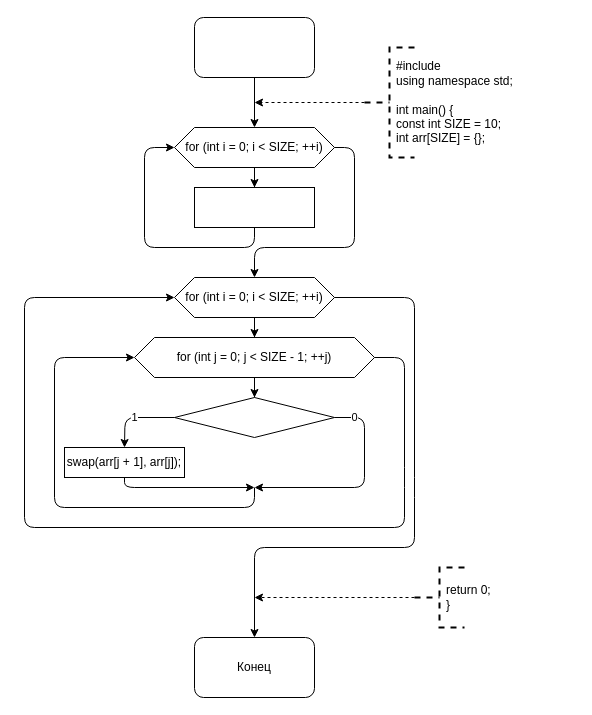
Image size: 592x715. Some labels were removed from this diagram. Here are the shapes that lost their labels. From the top down, the centre of each, then its label:
At (254,47): "Начало".
At (254,207): "arr[i] = rand() % 100;".
At (254,417): "if (arr[j] > arr[j + 1])".
